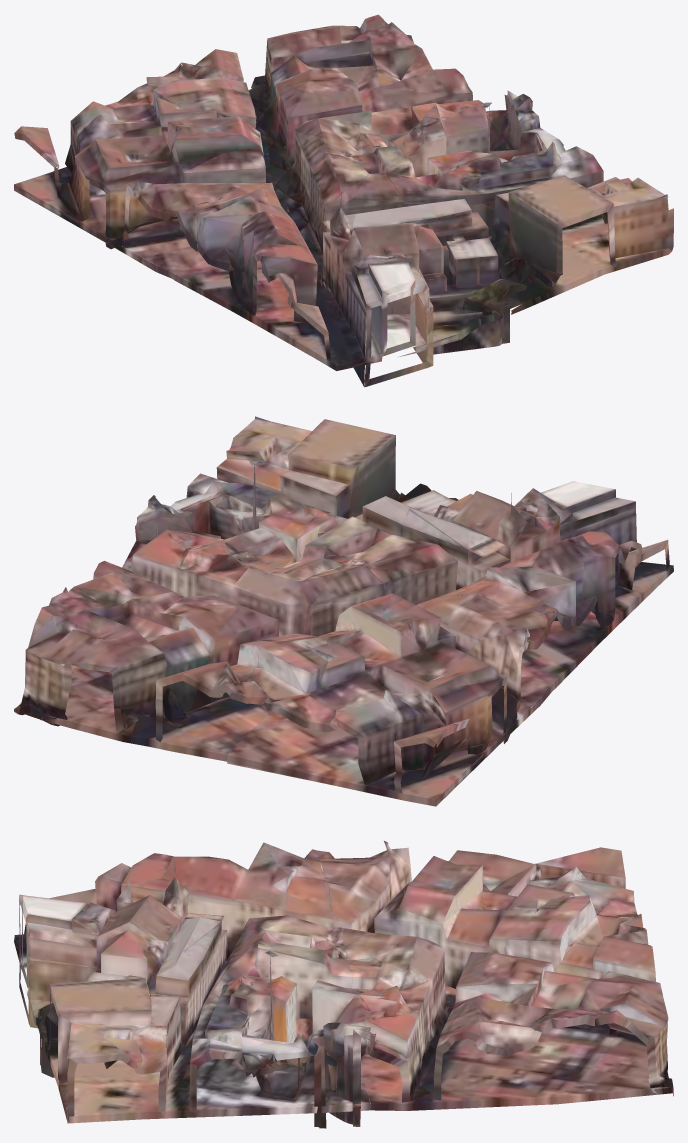
3 views of the same model, one above another, from view 1: azimuth 30°, elevation 25°; view 2: azimuth 150°, elevation 25°; view 3: azimuth 270°, elevation 25° (orthographic). The views are drawn at different scales.
Visible parts, largest first — view 1: Mesh_0; view 2: Mesh_0; view 3: Mesh_0.
Part boxes in pixels (x1=…): Mesh_0: x1=14, y1=14, x2=673, y2=387; Mesh_0: x1=14, y1=416, x2=673, y2=806; Mesh_0: x1=14, y1=841, x2=673, y2=1128.
Bounding box in the file's own units: 135 × 47.27 × 165.
2 materials, 2 textured.
